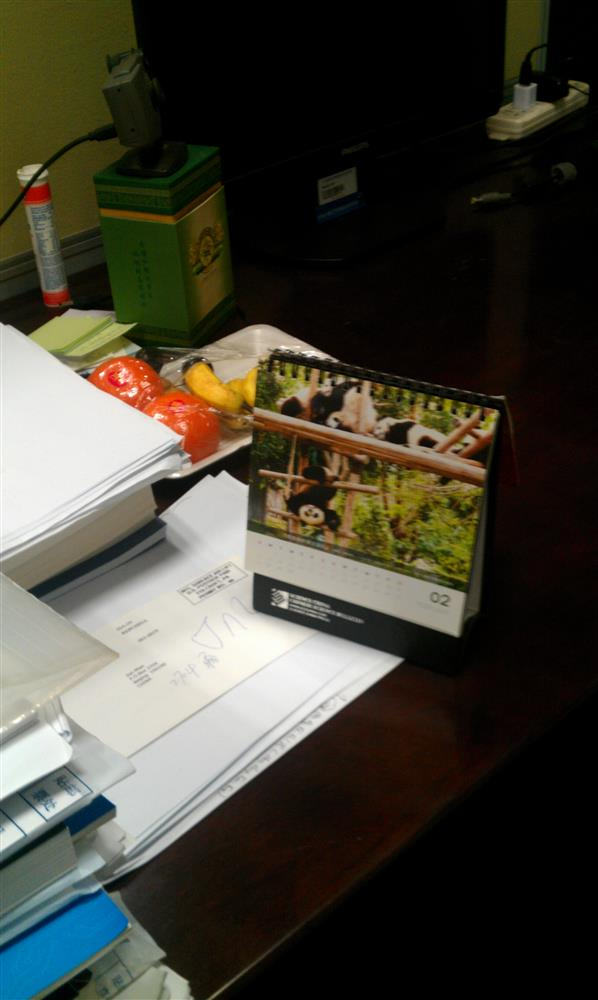panda_calendar: (245, 348, 511, 668)
